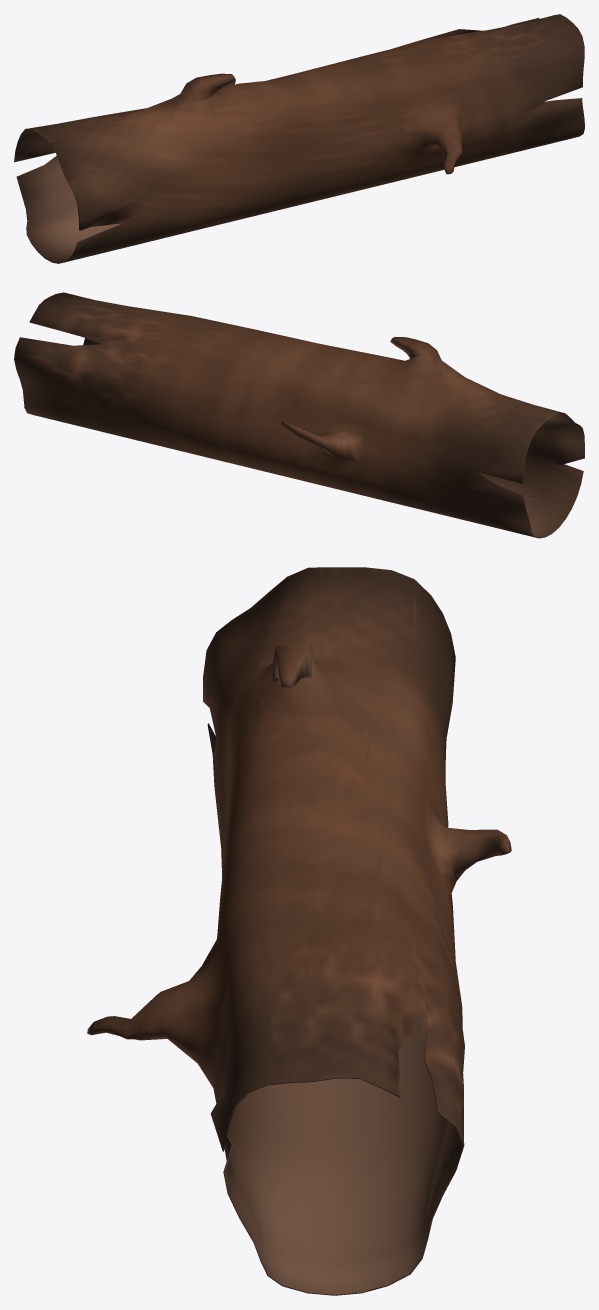
File: Wood.fbx
3 views of the same model, one above another, from view 1: azimuth 30°, elevation 25°; view 2: azimuth 150°, elevation 25°; view 3: azimuth 270°, elevation 25° (orthographic). The views are drawn at different scales.
Visible parts, largest first — view 1: Wood; view 2: Wood; view 3: Wood.
Boxes of the visible parts, box(x1,y1,x2,y2) form: Wood: box(14, 14, 584, 263); Wood: box(14, 292, 584, 538); Wood: box(87, 567, 511, 1295).
Size of the model in its own units: 349 by 96.43 by 126.
